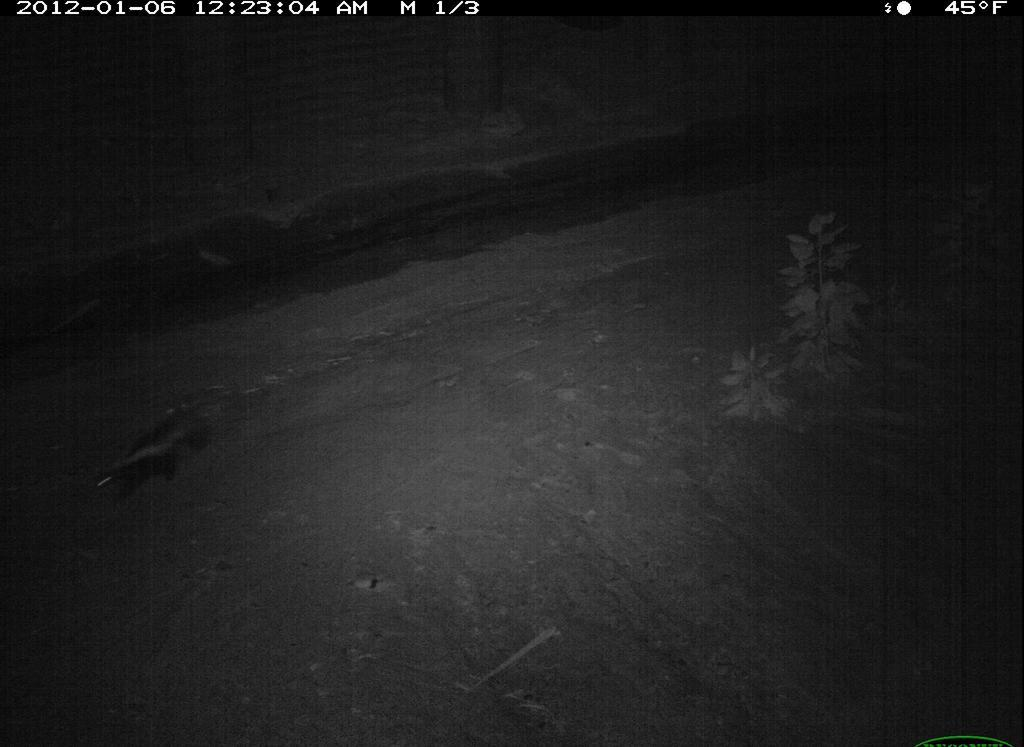skunk: (93, 400, 222, 509)
